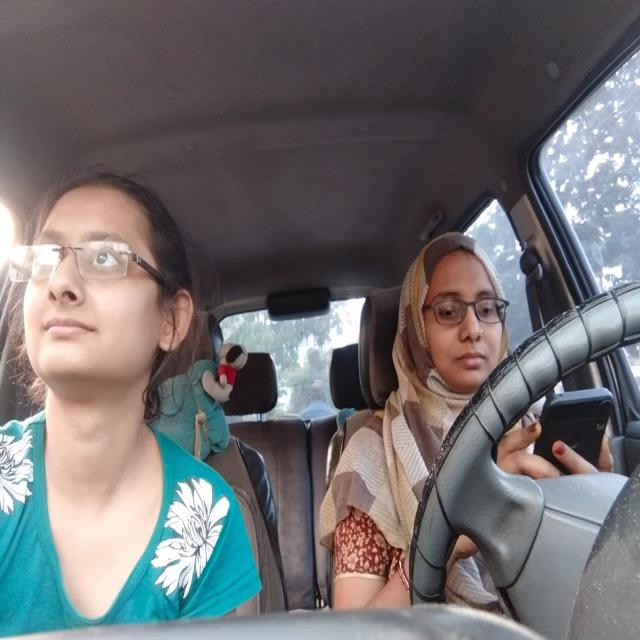mobile: (535, 387, 623, 480)
person: (8, 180, 194, 387), (402, 232, 512, 400)
